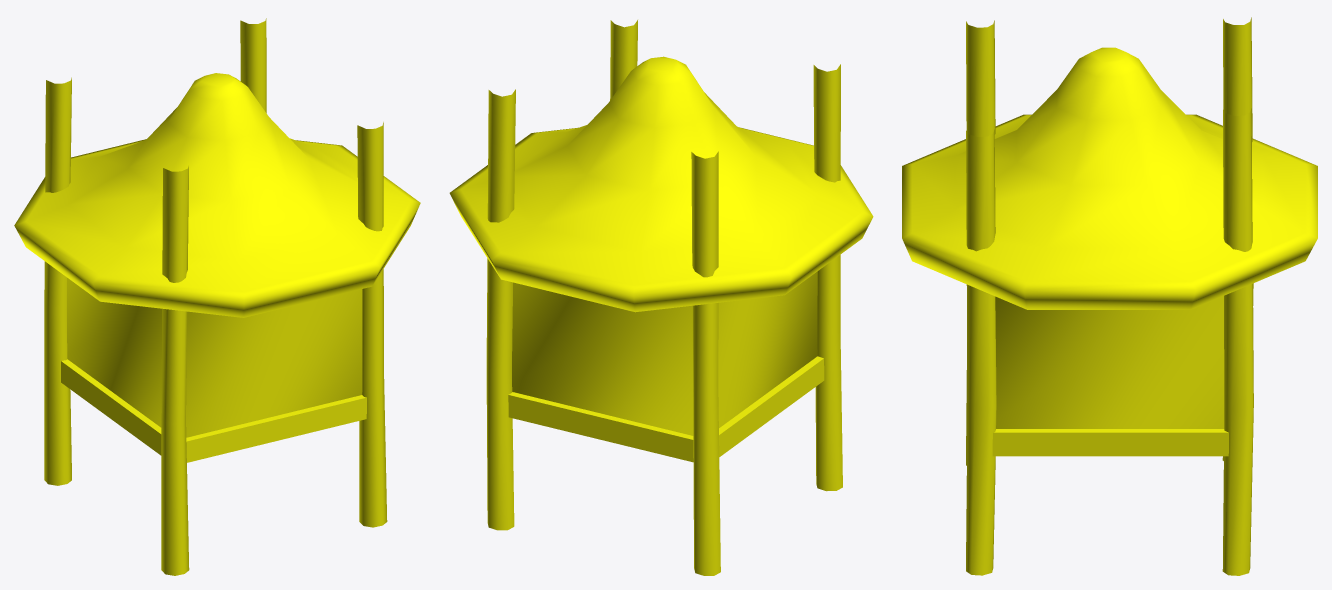
The model's file is camp_redthief_build_09.glb.
3 renders of one model, left to right at view 1: azimuth 30°, elevation 25°; view 2: azimuth 150°, elevation 25°; view 3: azimuth 270°, elevation 25°, orthographic. The views are drawn at different scales.
Visible parts, largest first — view 1: camp_redthief_build_09; view 2: camp_redthief_build_09; view 3: camp_redthief_build_09.
Part boxes in pixels (x1,y1,x2,y2): camp_redthief_build_09: [14, 18, 420, 575]; camp_redthief_build_09: [449, 20, 873, 575]; camp_redthief_build_09: [902, 17, 1317, 575].
Bounding box in the file's own units: 5.78 × 7.11 × 5.78.
Materials: 2 (2 with a texture image).
